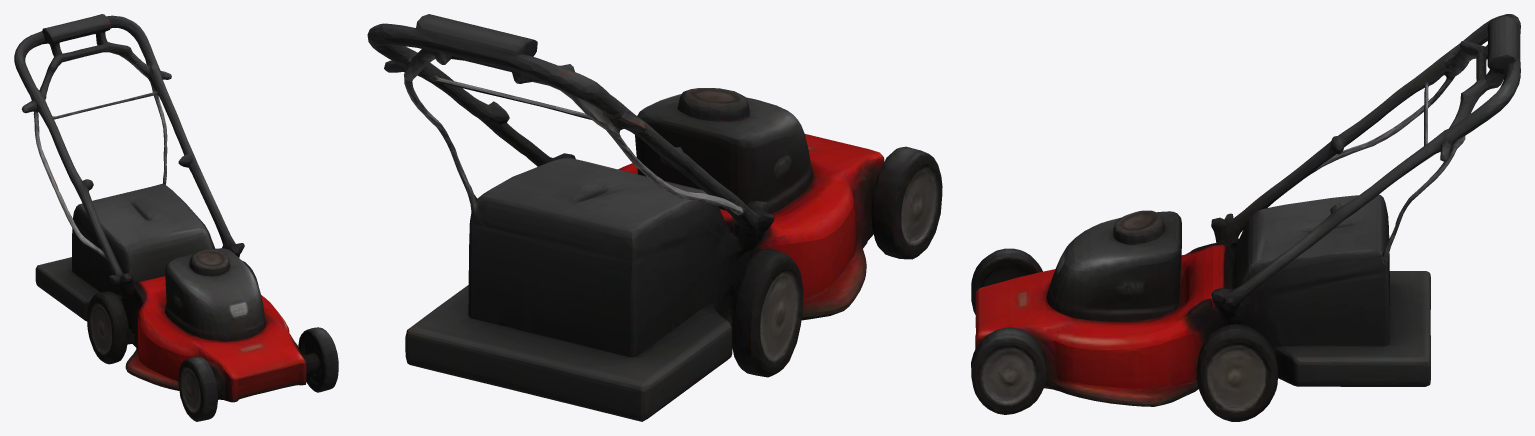
File: lawnmower.glb
3 renders of one model, left to right at view 1: azimuth 30°, elevation 25°; view 2: azimuth 150°, elevation 25°; view 3: azimuth 270°, elevation 25°, orthographic. The views are drawn at different scales.
Parts seen in each view (by area): view 1: world; view 2: world; view 3: world.
Part boxes in pixels (<box>): world: <box>14,14,338,421</box>; world: <box>367,14,942,421</box>; world: <box>971,14,1520,421</box>.
Bounding box in the file's own units: 0.4438 × 0.6807 × 0.9946.
1 material, 1 textured.
